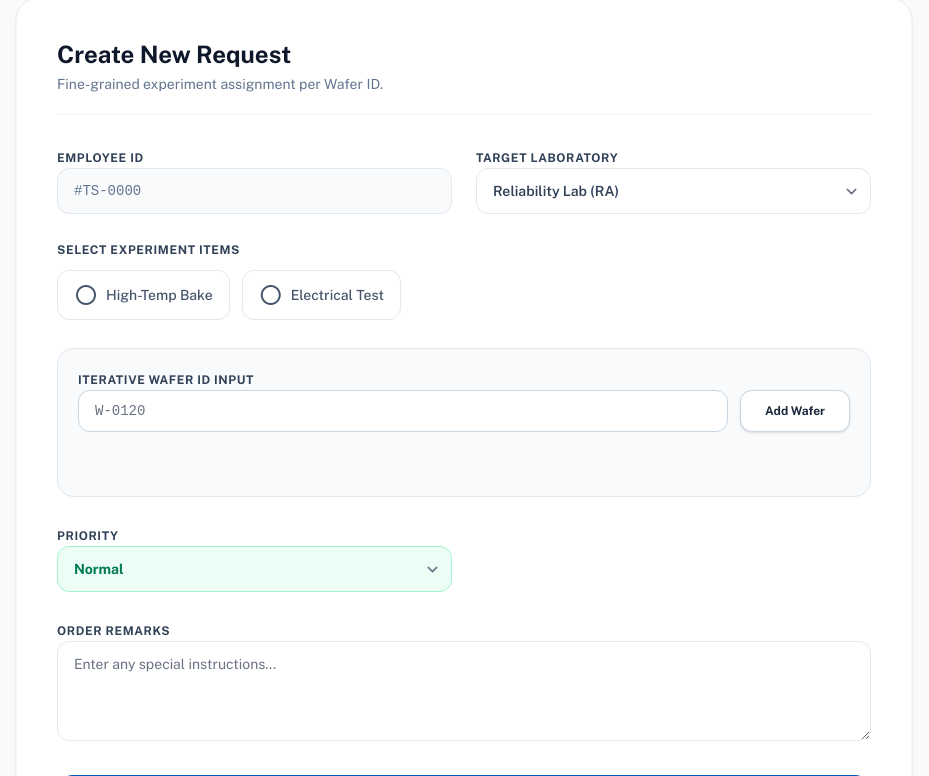
Test case: FabRequestView - Enterprise Order Provisioning Testing Suite › should allow removing a wafer before submission and reset form after
Type "W-1234" into the field with placeholder "W-0120" at (403, 411), box 78,390 -> 728,432
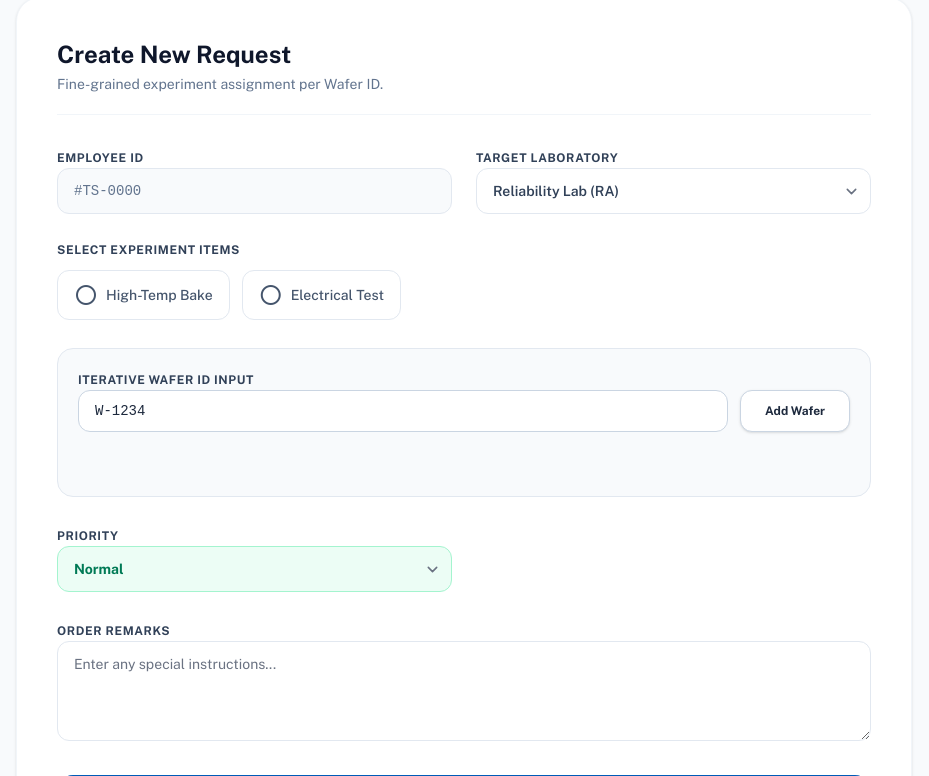
Click the button "Add Wafer" at (795, 411), box 740,390 -> 850,432
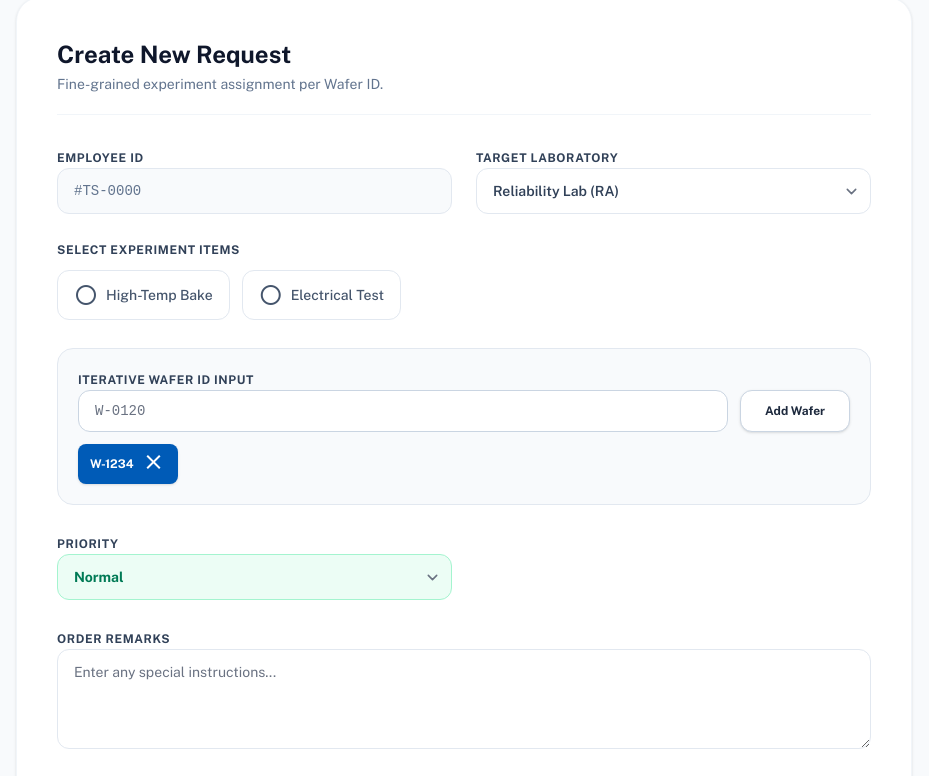
Check: the text "W-1234" is shown, box 78,444 -> 178,484
Click the button named "close" at (154, 464), box 142,450 -> 166,478
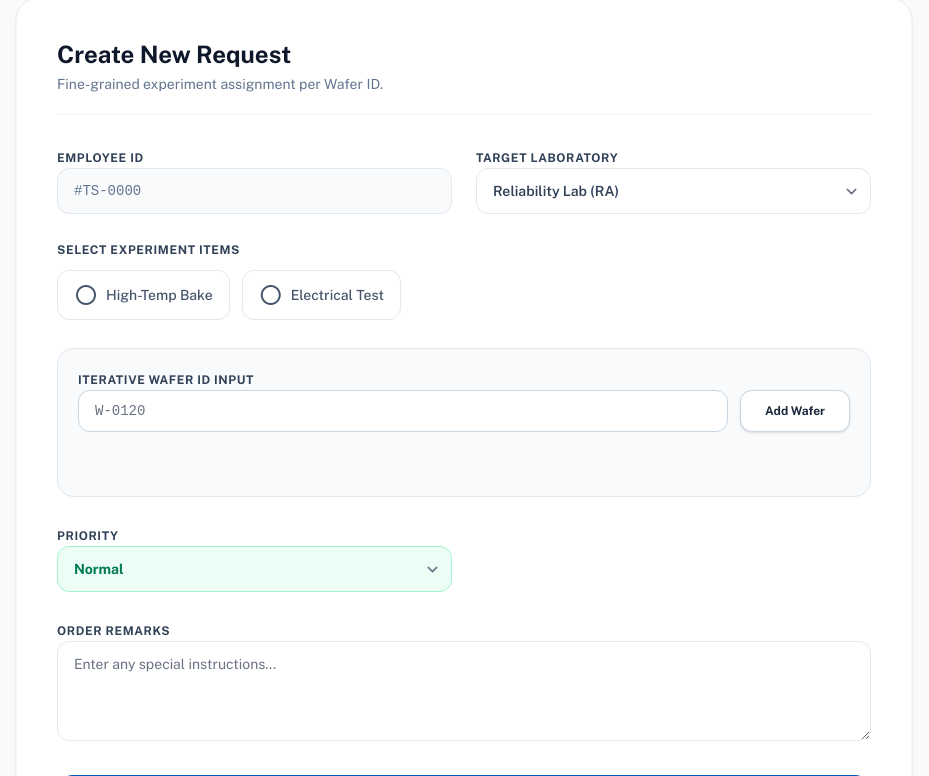
Check: the text "W-1234" is gone
